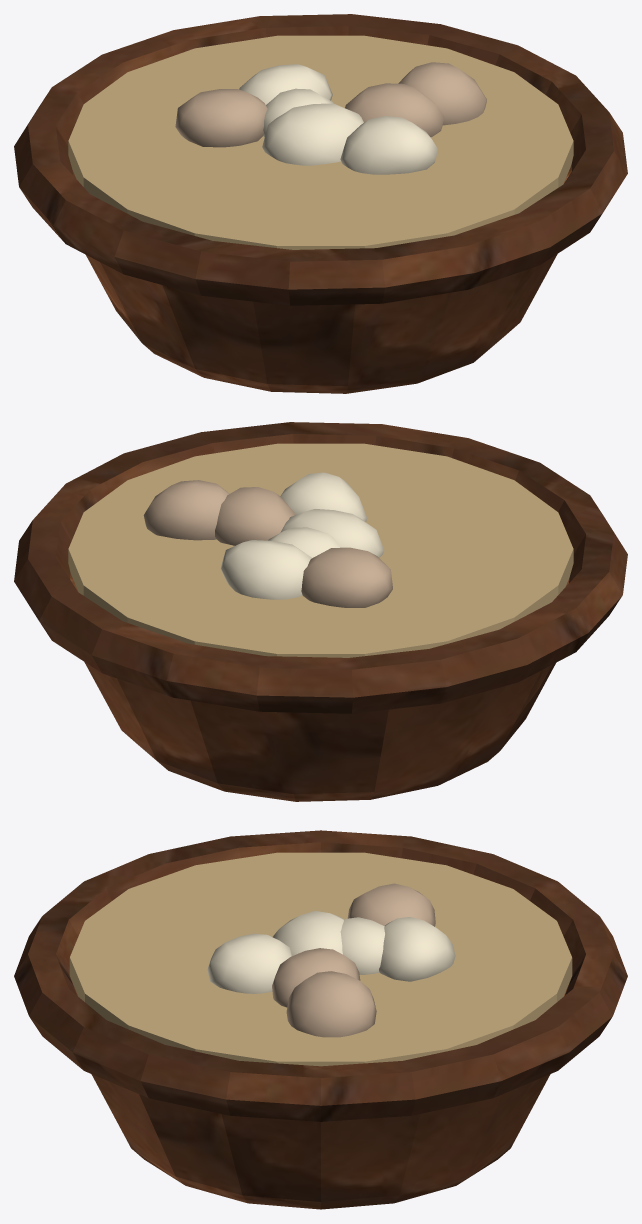
File: dish_bug_stew.glb
The picture shows the model from 3 angles, top to bottom: view 1: azimuth 30°, elevation 25°; view 2: azimuth 150°, elevation 25°; view 3: azimuth 270°, elevation 25°; orthographic projection.
Visible parts, largest first — view 1: model; view 2: model; view 3: model.
Part boxes in pixels (x1=…): model: x1=14, y1=14, x2=627, y2=393; model: x1=14, y1=422, x2=627, y2=801; model: x1=14, y1=830, x2=627, y2=1209.
Size of the model in its own units: 0.264 by 0.1024 by 0.264.
5 materials, 2 textured.
